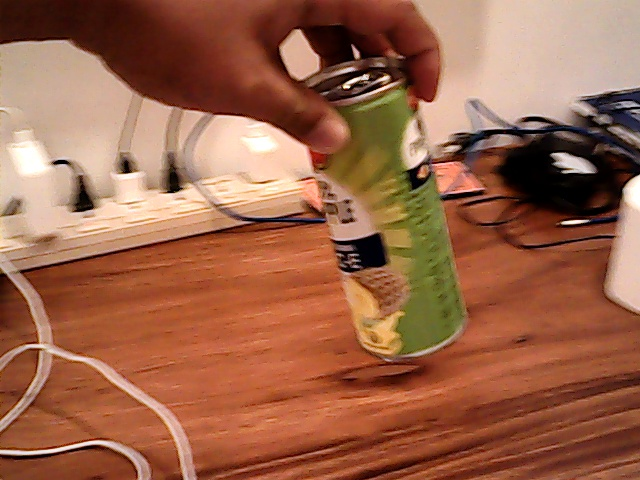Pine Juice: (297, 64, 475, 350)
